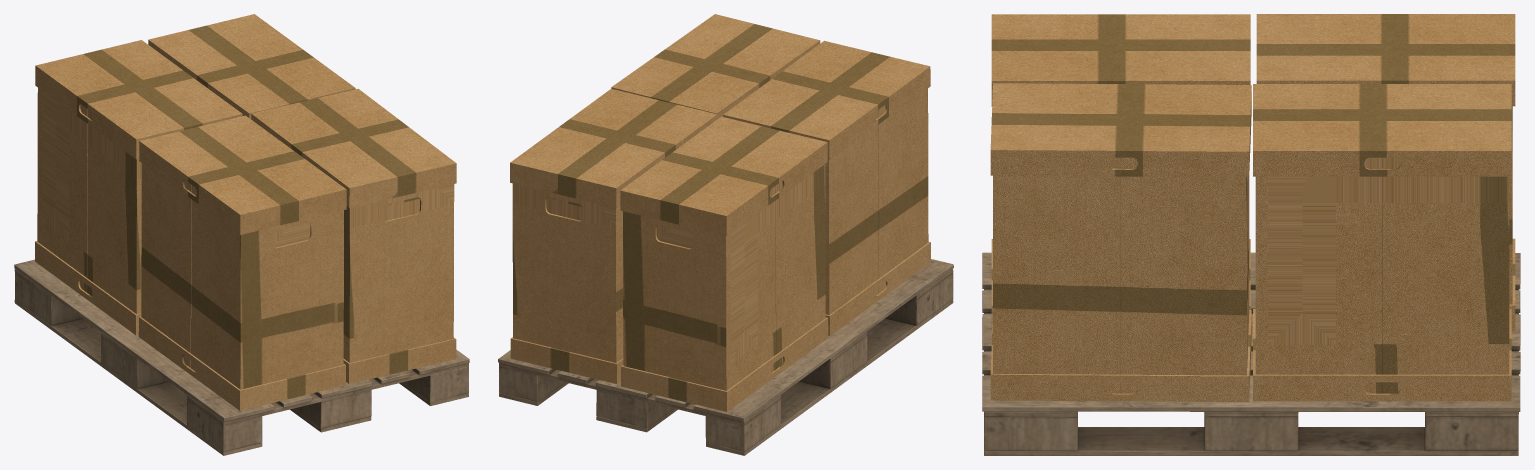
File: PalletStack3.fbx
3 views of the same model, side by side, from view 1: azimuth 30°, elevation 25°; view 2: azimuth 150°, elevation 25°; view 3: azimuth 270°, elevation 25° (orthographic). The views are drawn at different scales.
Visible parts, largest first — view 1: Box.001, Box, Box.002, Pallet_LOD0, Box.003; view 2: Box.002, Box.003, Box.001, Pallet_LOD0, Box; view 3: Box, Box.003, Pallet_LOD0, Box.002, Box.001.
Boxes of the visible parts, x1,y1,x2,y2 form: Box.001: (138, 115, 346, 410); Box: (251, 88, 456, 383); Box.002: (35, 40, 242, 335); Pallet_LOD0: (14, 259, 469, 455); Box.003: (148, 14, 355, 119); Box.002: (620, 116, 828, 411); Box.003: (510, 88, 717, 383); Box.001: (723, 40, 930, 336); Pallet_LOD0: (498, 259, 953, 455); Box: (611, 14, 820, 119); Box: (990, 83, 1251, 402); Box.003: (1253, 84, 1511, 401); Pallet_LOD0: (982, 252, 1520, 455); Box.002: (1256, 14, 1515, 331); Box.001: (991, 14, 1250, 331).
Bounding box in the file's own units: 80.78 × 73.71 × 120.
